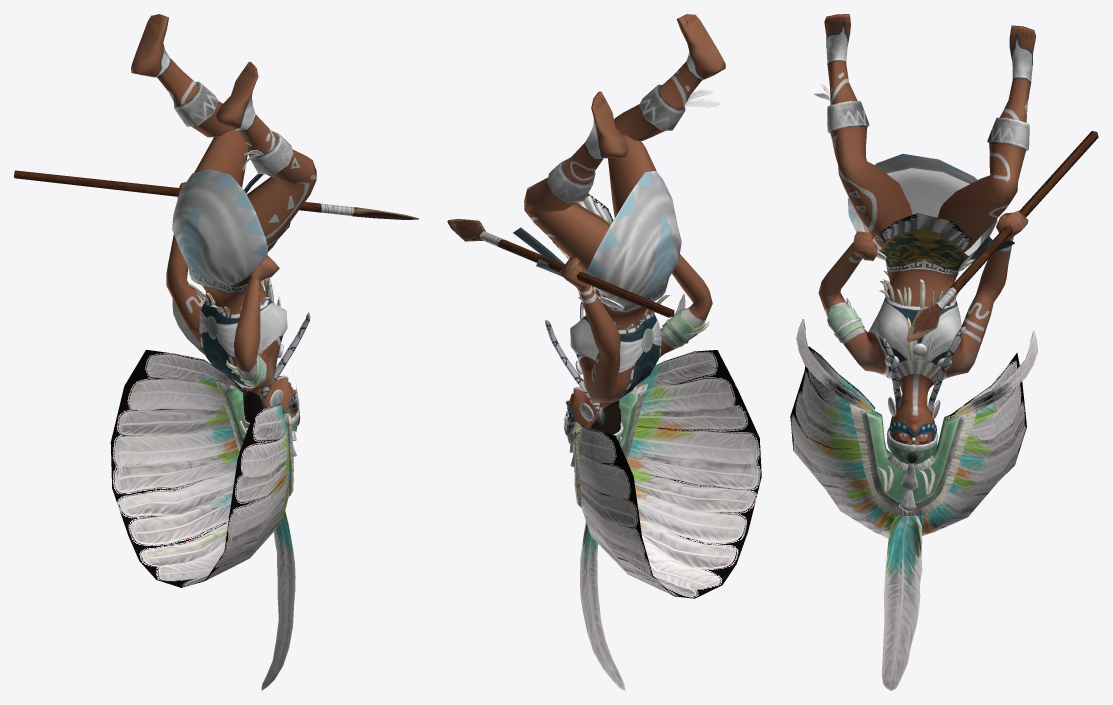
The model's file is rider-championgreattemplesoldiers.glb.
3 views of the same model, side by side, from view 1: azimuth 30°, elevation 25°; view 2: azimuth 150°, elevation 25°; view 3: azimuth 270°, elevation 25° (orthographic). The views are drawn at different scales.
Size of the model in its own units: 1.57 by 3.13 by 1.32.
3 materials, 3 textured.
